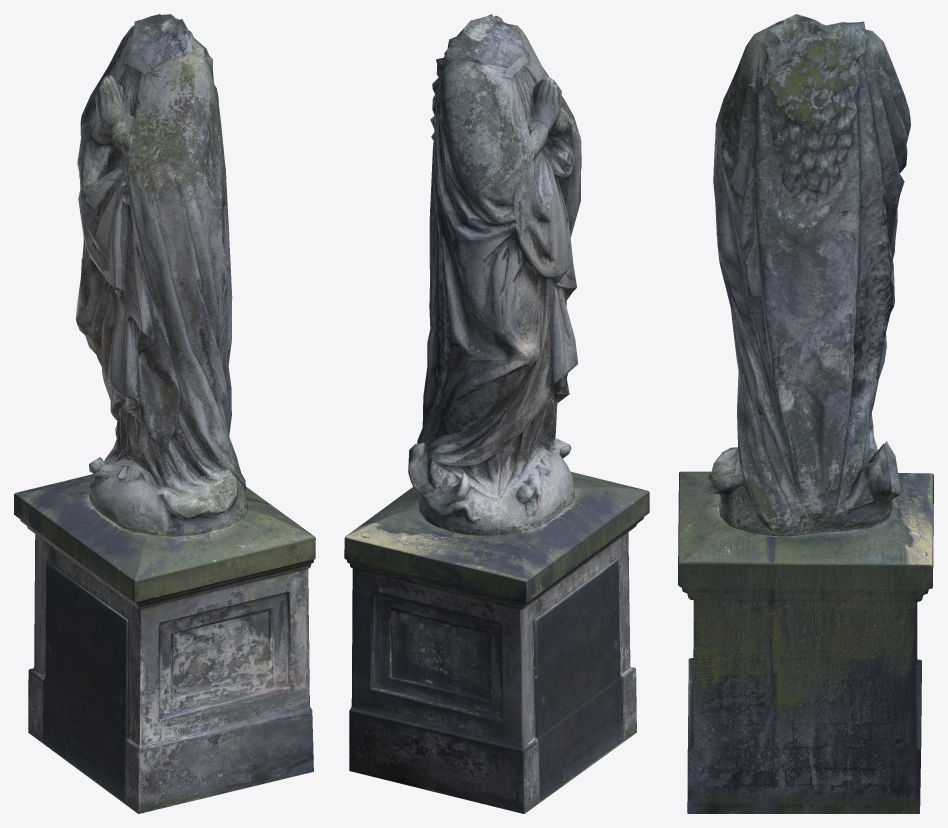
Rendered from sm_GraveSculpture_06_06.fbx.
3 renders of one model, left to right at view 1: azimuth 30°, elevation 25°; view 2: azimuth 150°, elevation 25°; view 3: azimuth 270°, elevation 25°, orthographic. The views are drawn at different scales.
Visible parts, largest first — view 1: sm_GraveSculpture_06_06_LOD0; view 2: sm_GraveSculpture_06_06_LOD0; view 3: sm_GraveSculpture_06_06_LOD0.
Part boxes in pixels (box(x1,y1,x2,y2)): sm_GraveSculpture_06_06_LOD0: box(14, 14, 315, 813); sm_GraveSculpture_06_06_LOD0: box(344, 14, 649, 813); sm_GraveSculpture_06_06_LOD0: box(678, 14, 933, 813).
Bounding box in the file's own units: 76.83 × 88.69 × 290.
